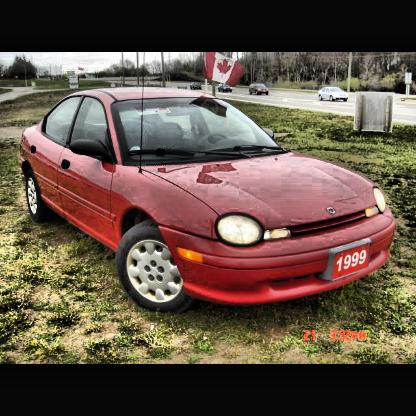Plymouth Neon Coupe 1999: (19, 85, 398, 310)
